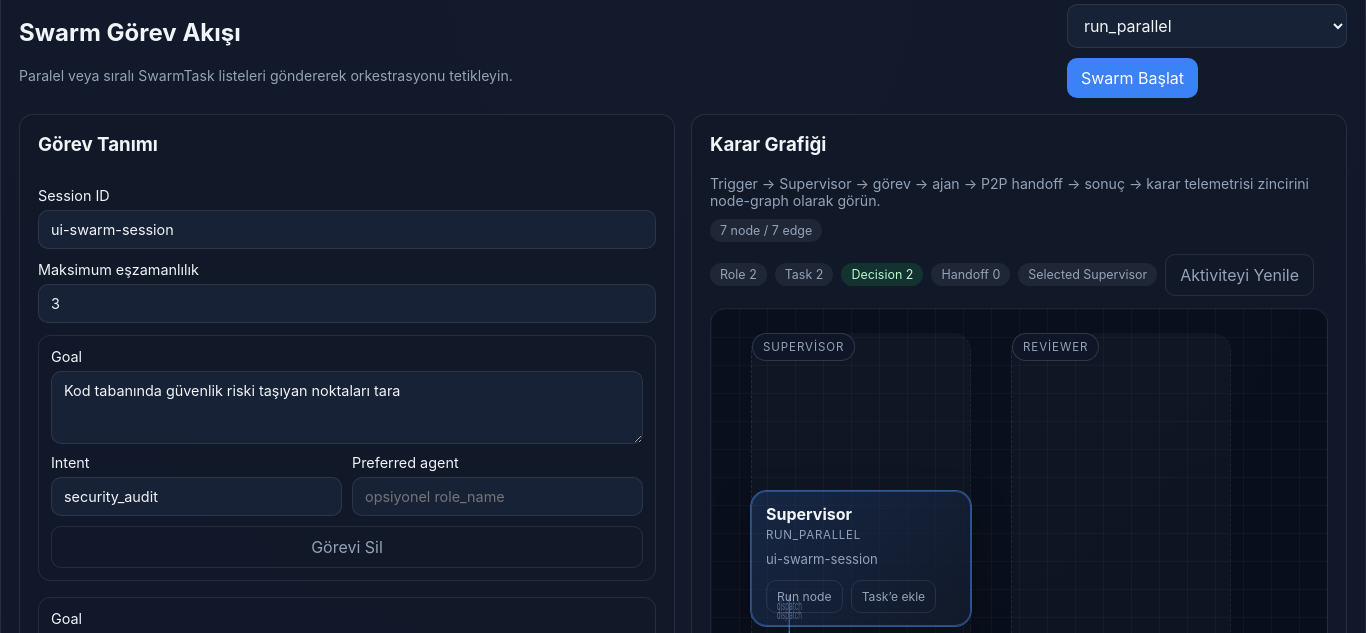
SwarmFlowPanel › renders handoff outcome edges when swarm result includes p2p handoff chain
Click the button "Run node" at (804, 597), box [766, 580, 843, 613]
(page scrolled)
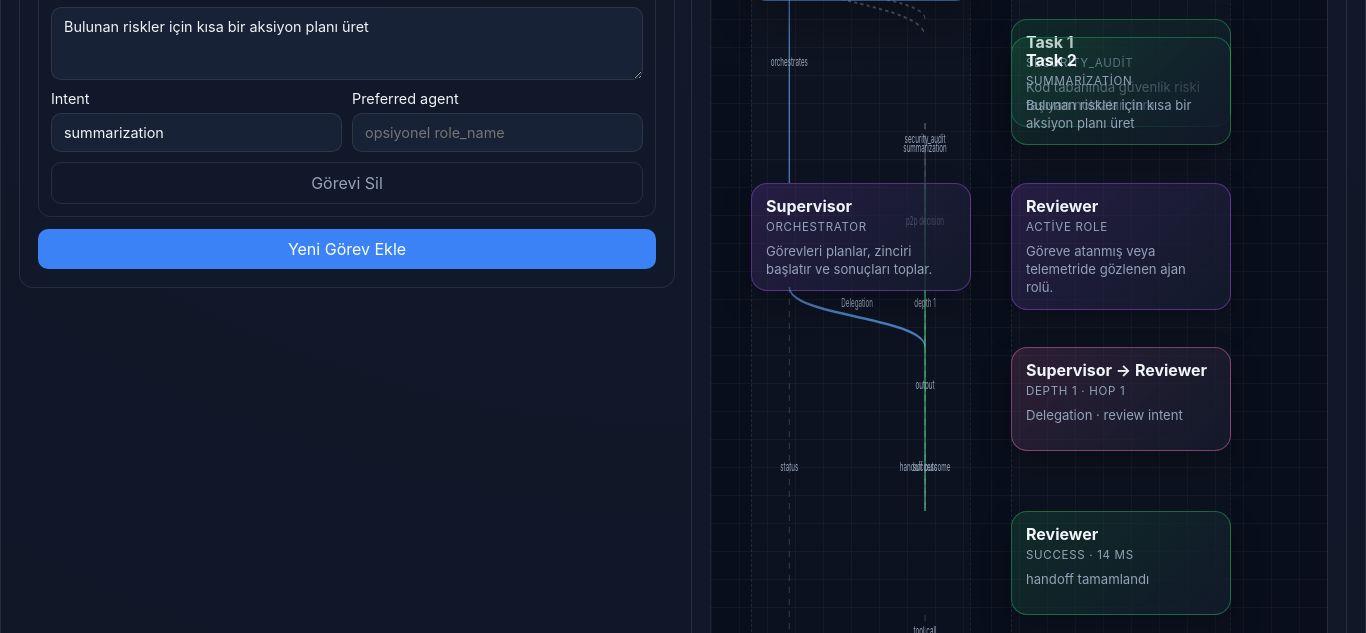
Check: the text "handoff outcome" is shown, box [900, 459, 951, 473]
Check: the text "Supervisor → Reviewer" is shown, box [1026, 360, 1216, 380]
